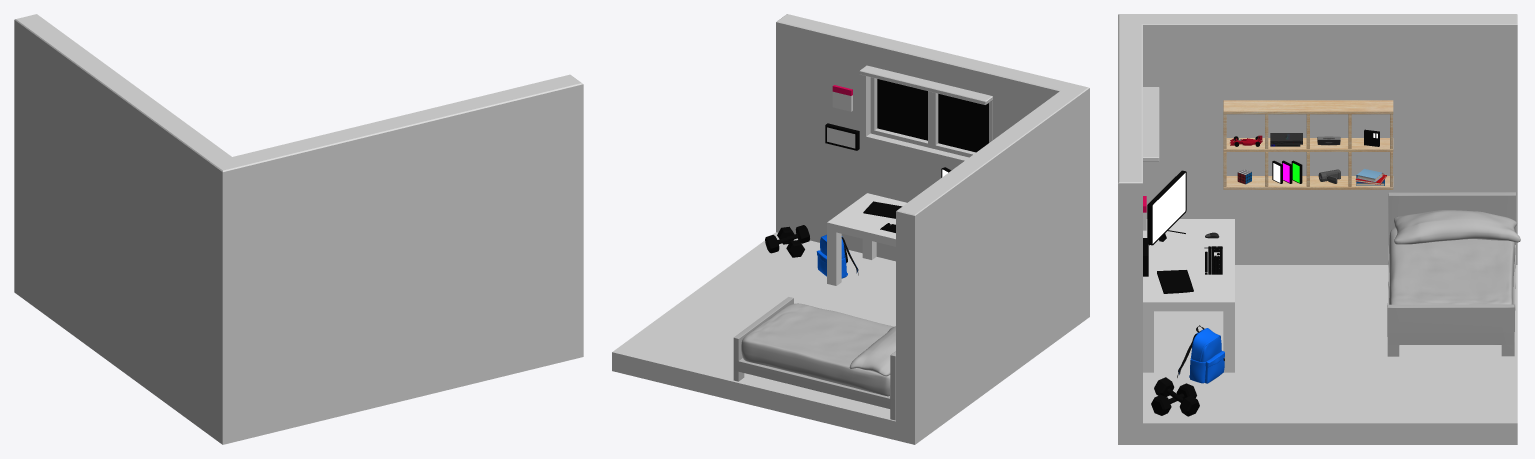
File: room.glb
The picture shows the model from 3 angles, left to right: view 1: azimuth 30°, elevation 25°; view 2: azimuth 150°, elevation 25°; view 3: azimuth 270°, elevation 25°; orthographic projection. The views are drawn at different scales.
Parts seen in each view (by area): view 1: room; view 2: room, bed, table, digitalclock, Cube.002, Dumb_Bell.001, calendar; view 3: room, bed, table, Wooden Shelf.001_0, monitor, Cube.002, Cube.009, Dumb_Bell.001, Dumb_Bell, Keys, mybody_PlayStation_2.smd_mybody_PlayStation_2.smd_MESH, Cube.
Boxes of the visible parts, x1=… form: room: x1=14, y1=14, x2=583, y2=444; room: x1=612, y1=14, x2=1089, y2=444; bed: x1=733, y1=297, x2=895, y2=420; table: x1=827, y1=193, x2=906, y2=285; digitalclock: x1=825, y1=123, x2=859, y2=150; Cube.002: x1=816, y1=234, x2=858, y2=278; Dumb_Bell.001: x1=765, y1=225, x2=809, y2=253; calendar: x1=832, y1=85, x2=852, y2=111; room: x1=1118, y1=14, x2=1517, y2=444; bed: x1=1387, y1=192, x2=1520, y2=356; table: x1=1143, y1=219, x2=1234, y2=372; Wooden Shelf.001_0: x1=1223, y1=100, x2=1393, y2=189; monitor: x1=1147, y1=170, x2=1186, y2=245; Cube.002: x1=1177, y1=325, x2=1224, y2=383; Cube.009: x1=1157, y1=270, x2=1193, y2=292; Dumb_Bell.001: x1=1154, y1=377, x2=1199, y2=416; Dumb_Bell: x1=1151, y1=383, x2=1196, y2=415; Keys: x1=1205, y1=246, x2=1222, y2=274; mybody_PlayStation_2.smd_mybody_PlayStation_2.smd_MESH: x1=1270, y1=133, x2=1302, y2=146; Cube: x1=1355, y1=169, x2=1386, y2=185.
Bounding box in the file's own units: 0.9255 × 0.6708 × 0.9328.
52 materials, 5 textured.
